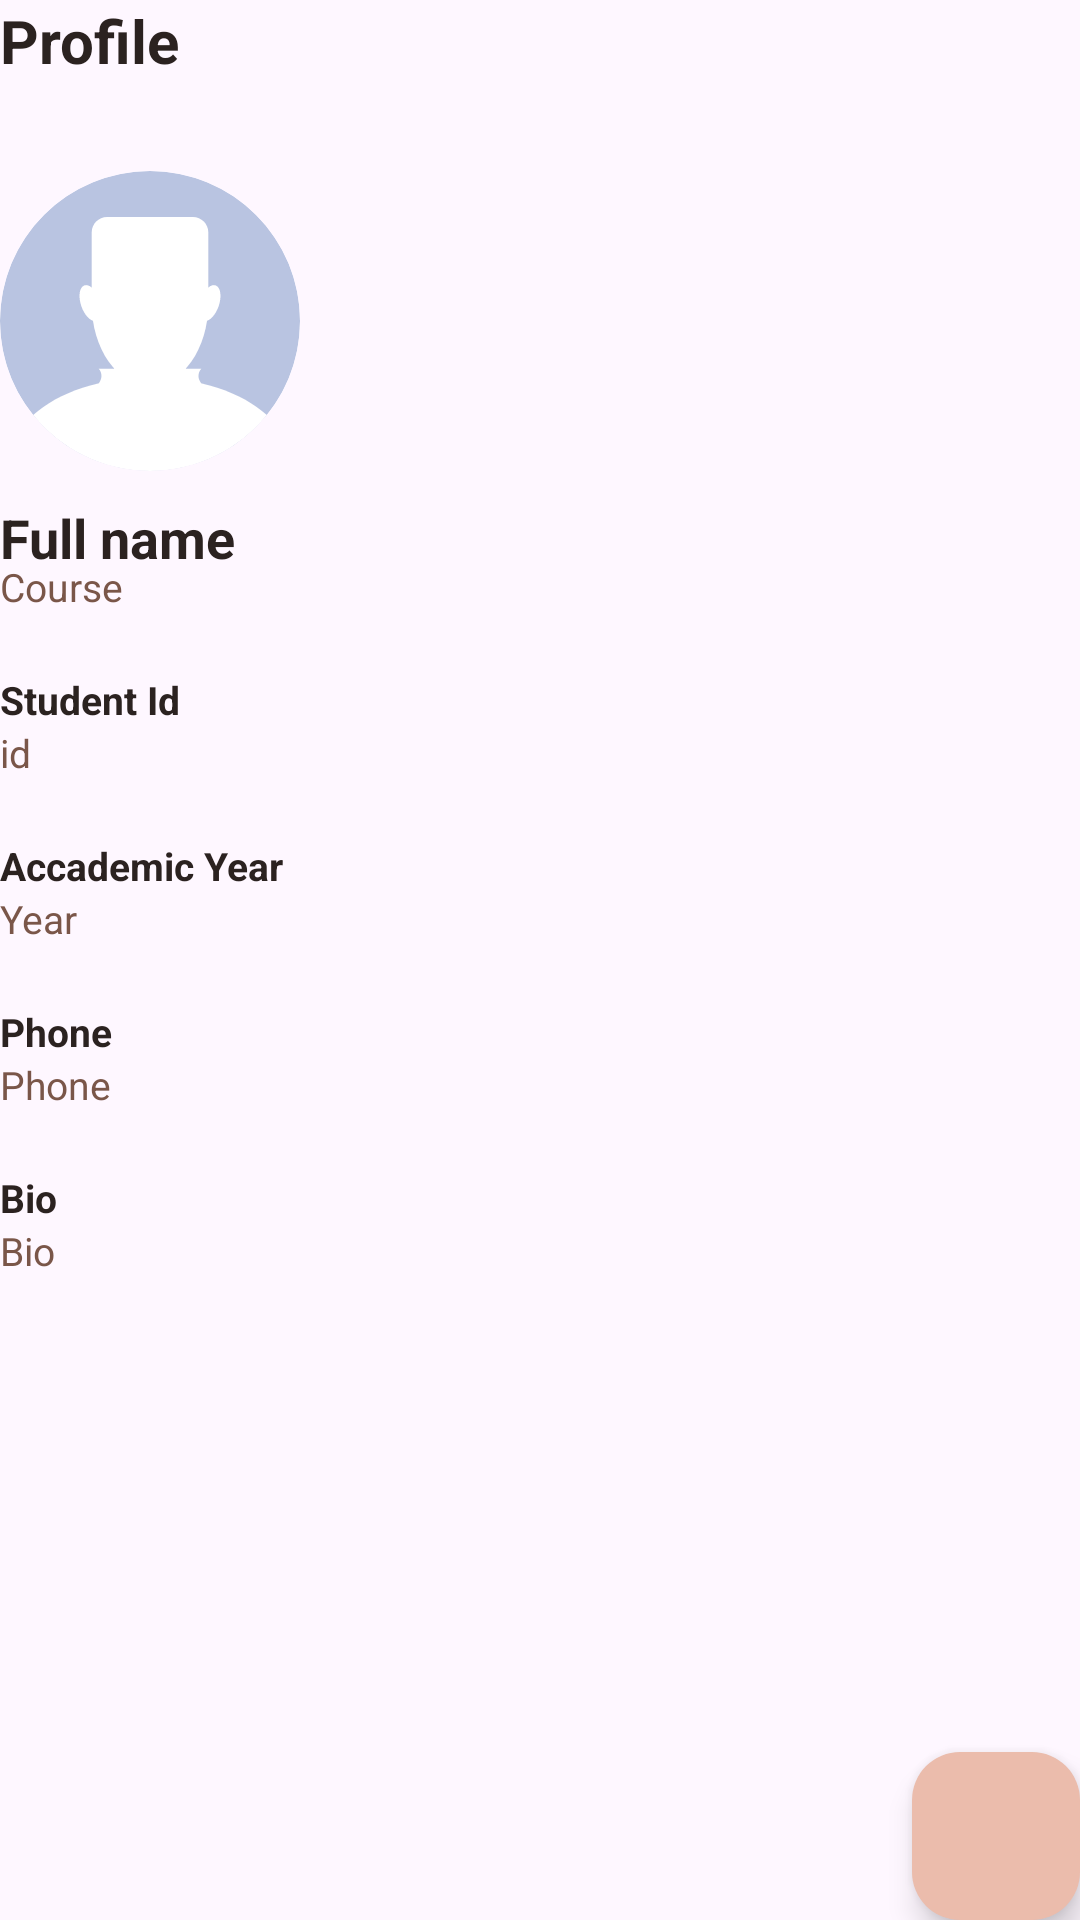

Icons on this 1080x1920 Android screen, each with its box as (left=x1, top=y1, right=x2, bottom=y2):
user: (left=0, top=171, right=300, bottom=415)
